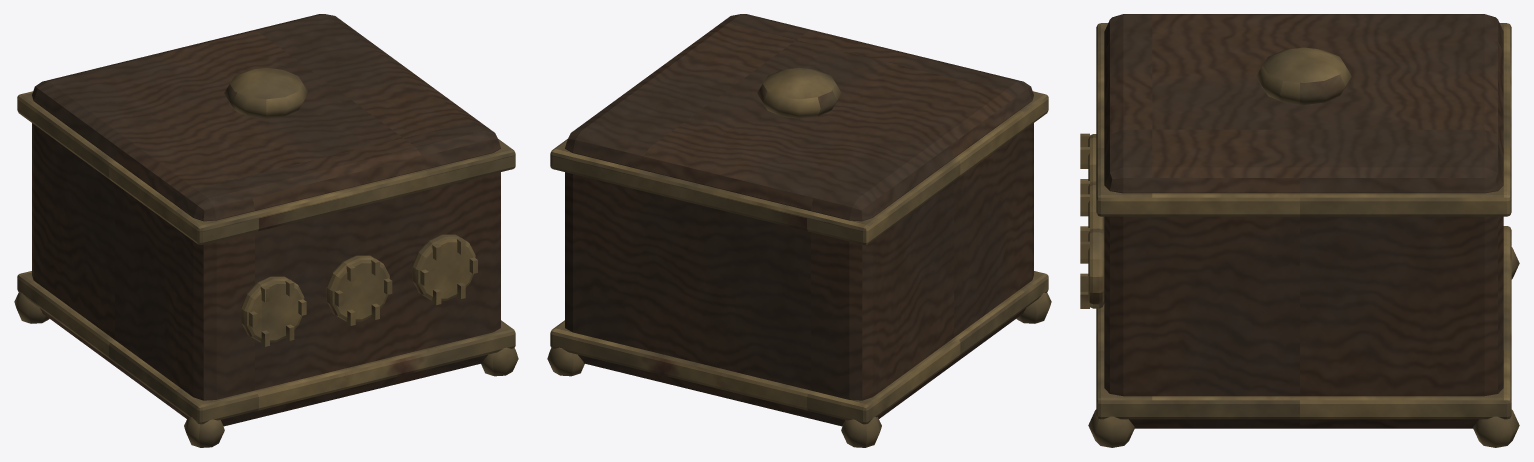
File: P02_puzzle_box_v1.glb
3 renders of one model, left to right at view 1: azimuth 30°, elevation 25°; view 2: azimuth 150°, elevation 25°; view 3: azimuth 270°, elevation 25°, orthographic. The views are drawn at different scales.
Parts seen in each view (by area): view 1: P02_puzzle_box_v1; view 2: P02_puzzle_box_v1; view 3: P02_puzzle_box_v1.
Part boxes in pixels (bbox=[...]): P02_puzzle_box_v1: bbox=[14, 14, 518, 447]; P02_puzzle_box_v1: bbox=[547, 14, 1051, 447]; P02_puzzle_box_v1: bbox=[1080, 14, 1519, 447].
Size of the model in its own units: 0.2945 by 0.2345 by 0.3.
2 materials, 2 textured.
